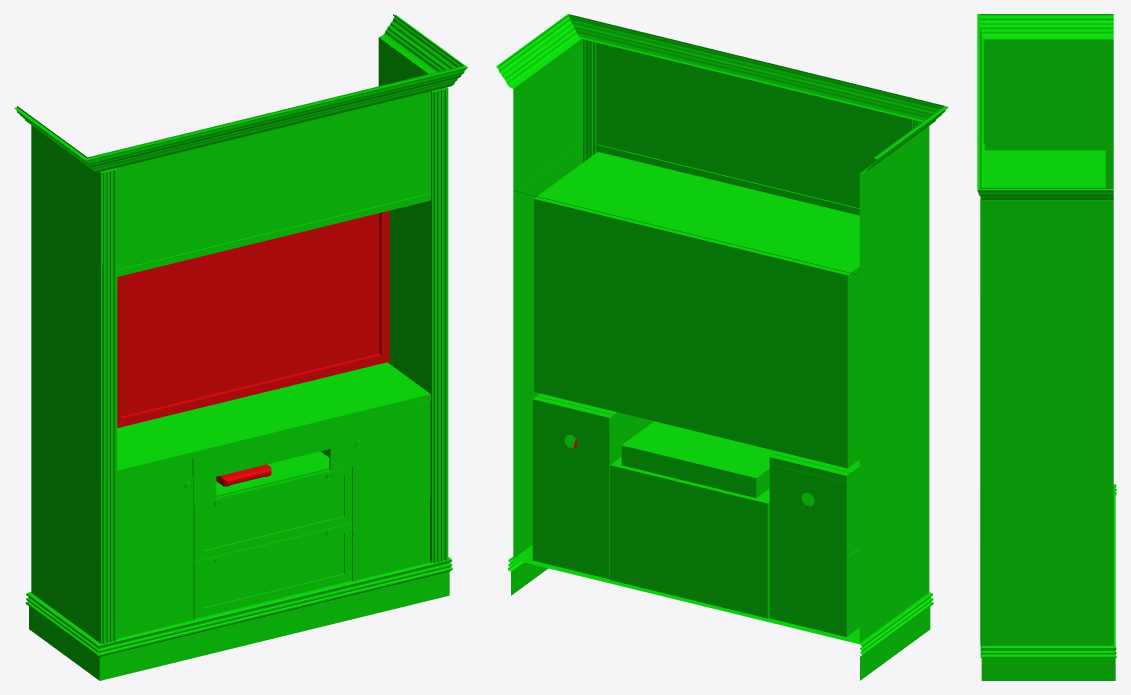
Rendered from Entertainment Center_1.fbx.
3 renders of one model, left to right at view 1: azimuth 30°, elevation 25°; view 2: azimuth 150°, elevation 25°; view 3: azimuth 270°, elevation 25°, orthographic. The views are drawn at different scales.
Parts seen in each view (by area): view 1: Entertainment_Center_BASE_low, TV_low, D_RT_BASE_low, D_LT_BASE_low, D_BOT_BASE_low, D_TOP_BASE_low; view 2: Entertainment_Center_BASE_low; view 3: Entertainment_Center_BASE_low.
Part boxes in pixels (x1,y1,x2,y2): Entertainment_Center_BASE_low: (14,14,467,680); TV_low: (117,210,389,427); D_RT_BASE_low: (353,401,430,580); D_LT_BASE_low: (117,459,192,638); D_BOT_BASE_low: (194,523,351,618); D_TOP_BASE_low: (194,466,351,561); Entertainment_Center_BASE_low: (496,14,948,680); Entertainment_Center_BASE_low: (977,14,1116,680).
Size of the model in its own units: 160 by 211 by 53.46.
